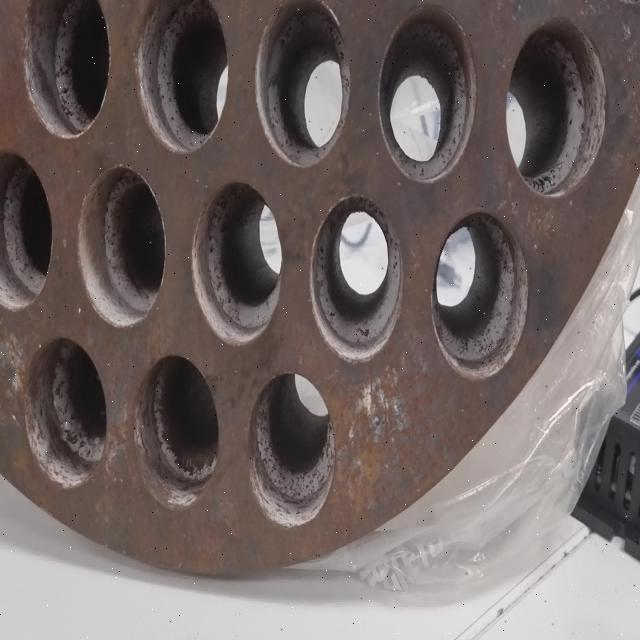Hole: (505, 17, 606, 198), (378, 5, 477, 184), (431, 208, 529, 380), (310, 192, 403, 363), (256, 2, 350, 168), (192, 180, 283, 346), (77, 164, 166, 328), (135, 0, 230, 153), (248, 370, 335, 530), (134, 354, 219, 510), (23, 336, 107, 489), (21, 0, 109, 139), (0, 150, 53, 312)
